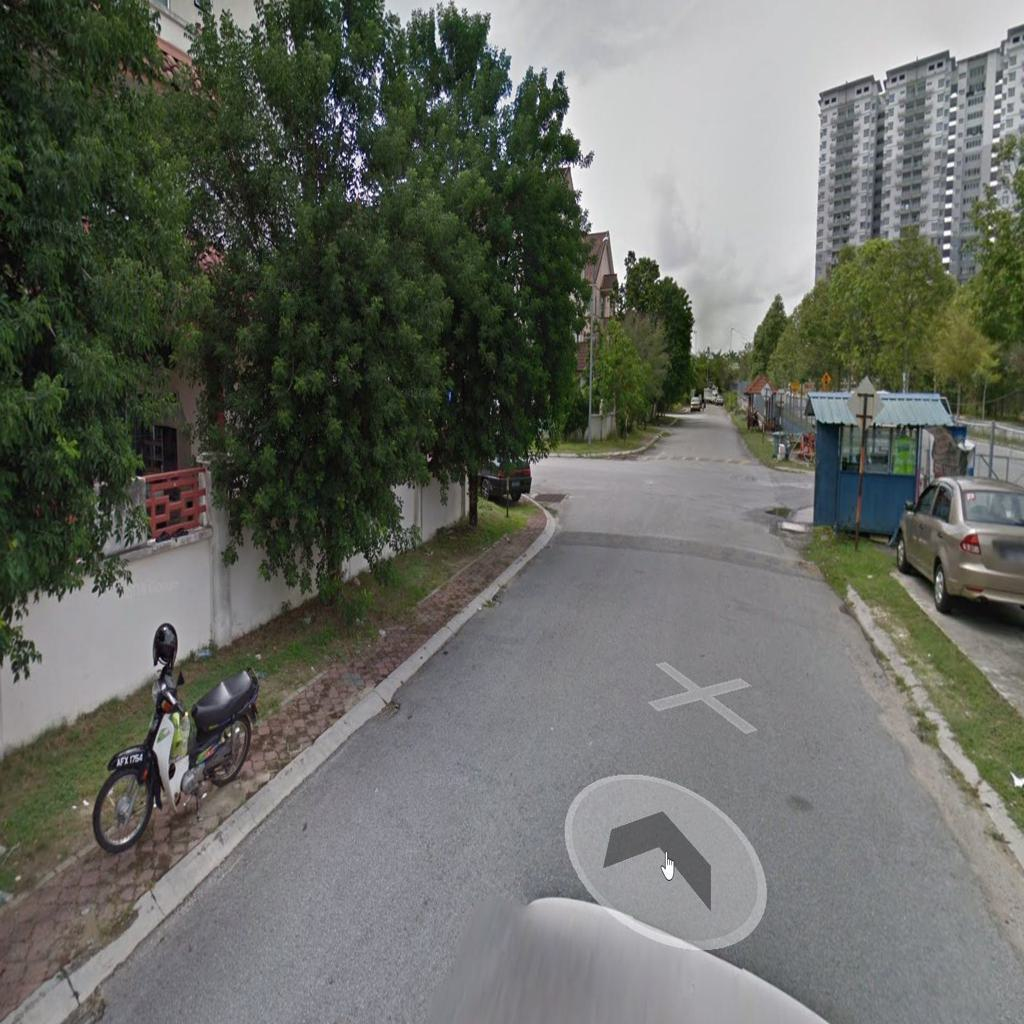Junction: (491, 439, 623, 536)
